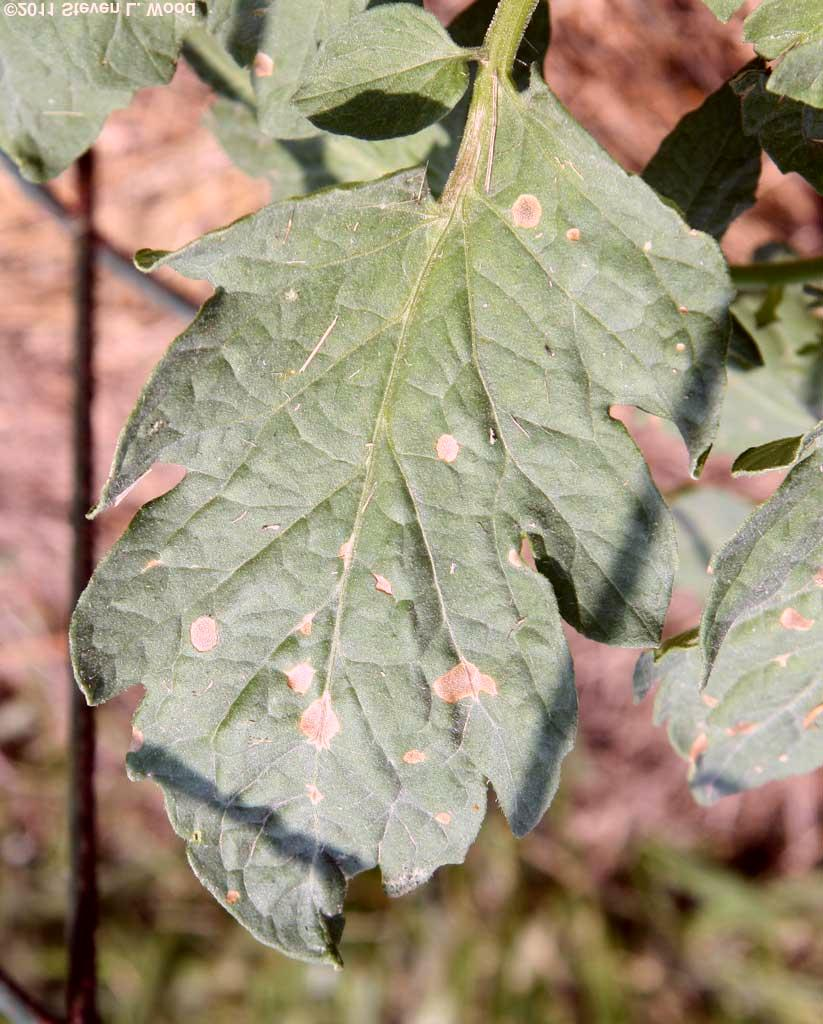Tomato leaf bacterial spot: (64, 63, 727, 990)
